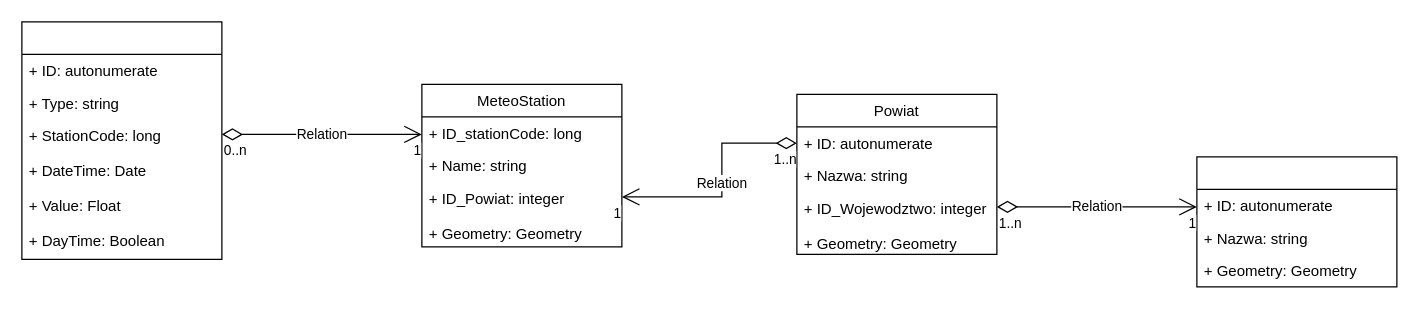
The diagram is 1419 pixels wide and 313 high, and some of its shapes have lost their labels. Here are the shapes that lost their labels. From the top down, the box of each, then its label:
(21, 21, 222, 259): IMGW
(1196, 156, 1397, 287): Wojewodztwo
